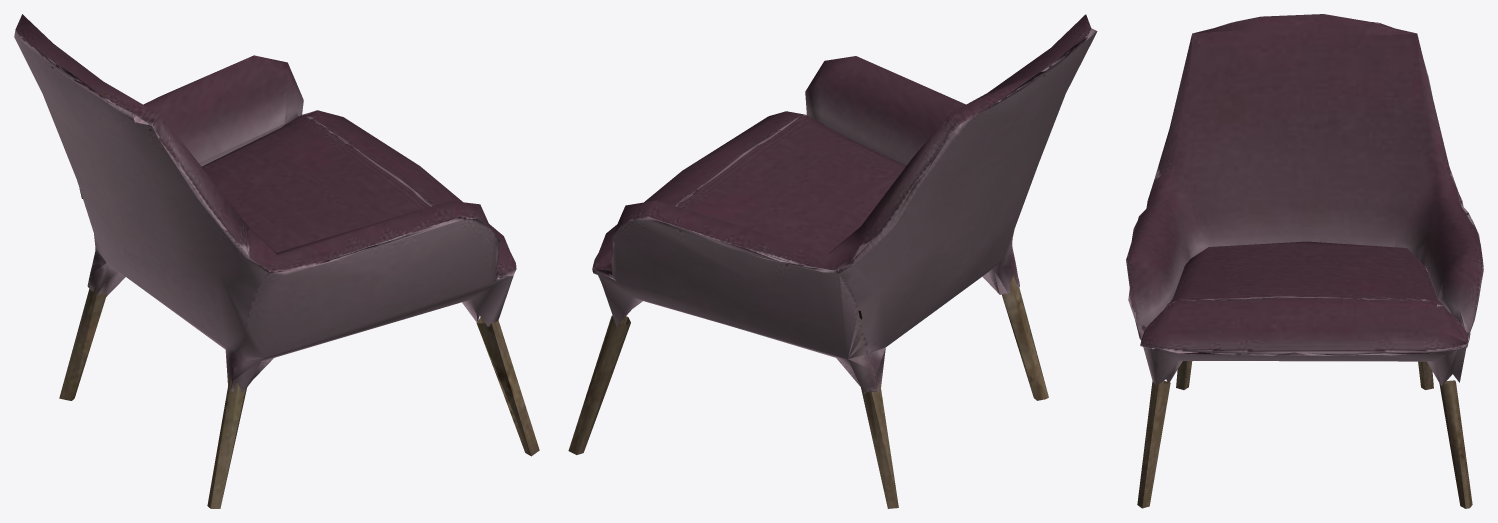
The model's file is S_Sofa0005.obj.
3 renders of one model, left to right at view 1: azimuth 30°, elevation 25°; view 2: azimuth 150°, elevation 25°; view 3: azimuth 270°, elevation 25°, orthographic. The views are drawn at different scales.
Bounding box in the file's own units: 0.686 × 0.698 × 0.666.
Materials: 1 (1 with a texture image).
